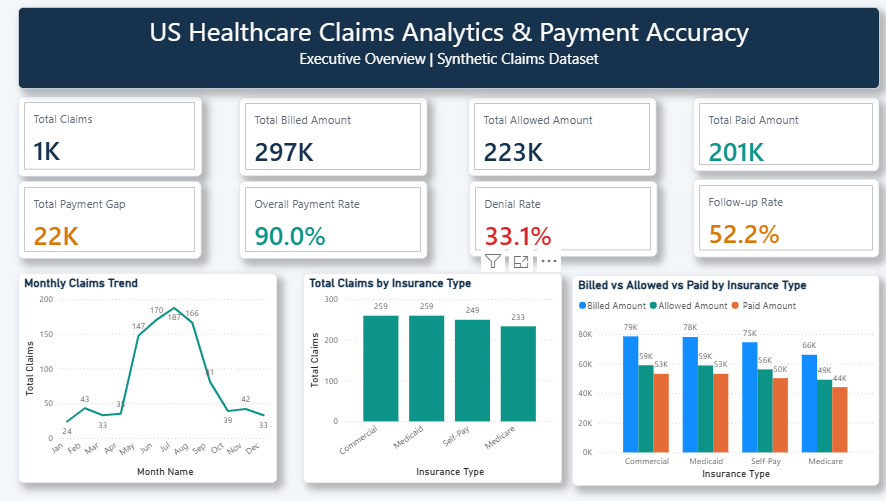

This screenshot's page, from the dashboard's own definition file:
{"tool":"powerbi","page":{"name":"Executive Overview","canvas":[1280,800],"ordinal":0},"visuals":[{"type":"cardVisual","fields":{"Data":["claim_data.Total Claims"]},"box":[26.8,144.9,263,115],"z":0},{"type":"cardVisual","fields":{"Data":["claim_data.Total Billed Amount","claim_data.Total Billed Amount"]},"box":[343,146,269.3,113.4],"z":1000},{"type":"cardVisual","fields":{"Data":["claim_data.Total Allowed Amount"]},"box":[670.4,146,269.3,113.4],"z":2000},{"type":"cardVisual","fields":{"Data":["claim_data.Total Paid Amount"]},"box":[992.1,146,266.5,106.3],"z":3000},{"type":"cardVisual","fields":{"Data":["claim_data.Total Payment Gap"]},"box":[27.4,266.4,262.1,110.9],"z":4000},{"type":"cardVisual","fields":{"Data":["claim_data.Overall Payment Rate"]},"box":[342.7,266.4,269.3,110.9],"z":5000},{"type":"cardVisual","fields":{"Data":["claim_data.Denial Rate"]},"box":[671,266.4,269.3,108],"z":6000},{"type":"cardVisual","fields":{"Data":["claim_data.Follow-up Rate"]},"box":[992.1,263,266.1,111.8],"z":7000},{"type":"textbox","box":[26.8,17.3,1231.5,116.5],"z":8000},{"type":"lineChart","title":"Monthly Claims Trend","fields":{"Y":["claim_data.Total Claims"],"Category":["claim_data.Month Name"]},"box":[26.9,396.9,370,300],"z":9000},{"type":"clusteredColumnChart","fields":{"Category":["claim_data.Insurance Type"],"Y":["claim_data.Total Claims"]},"box":[433.7,396.9,370,300],"z":10000},{"type":"clusteredColumnChart","title":" Billed vs Allowed vs Paid by Insurance Type","fields":{"Category":["claim_data.Insurance Type"],"Y":["Sum(claim_data.Billed Amount)","Sum(claim_data.Allowed Amount)","Sum(claim_data.Paid Amount)"]},"box":[818.9,400,439.4,300.8],"z":11000}]}

Visuals, with their boxes on the page's 1280x800 design canvas (x1, y1, x2, y2). These are canvas units, not pixel positions in the 886x501 screenshot, which may show the page scaled, cropped or inside an application window:
cardVisual - claim_data.Total Claims: [27,145,290,260]
cardVisual - claim_data.Total Billed Amount x claim_data.Total Billed Amount: [343,146,612,259]
cardVisual - claim_data.Total Allowed Amount: [670,146,940,259]
cardVisual - claim_data.Total Paid Amount: [992,146,1259,252]
cardVisual - claim_data.Total Payment Gap: [27,266,290,377]
cardVisual - claim_data.Overall Payment Rate: [343,266,612,377]
cardVisual - claim_data.Denial Rate: [671,266,940,374]
cardVisual - claim_data.Follow-up Rate: [992,263,1258,375]
textbox: [27,17,1258,134]
"Monthly Claims Trend" lineChart: [27,397,397,697]
clusteredColumnChart - claim_data.Insurance Type x claim_data.Total Claims: [434,397,804,697]
" Billed vs Allowed vs Paid by Insurance Type" clusteredColumnChart: [819,400,1258,701]
